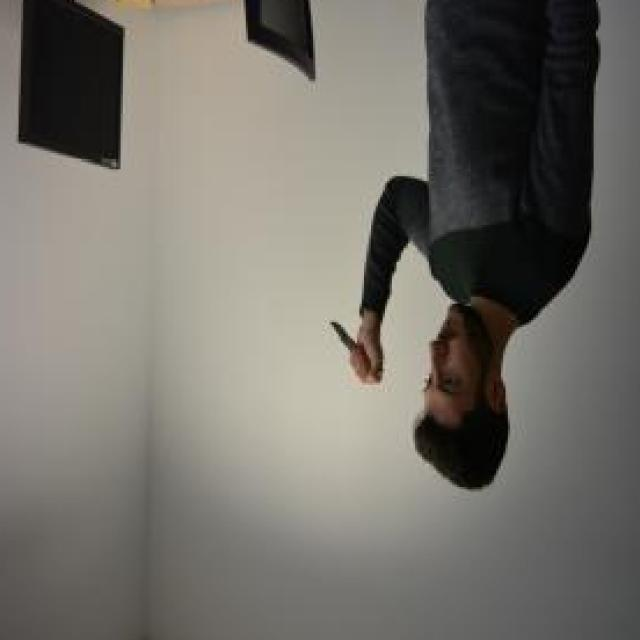knife: (325, 316, 385, 378)
